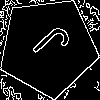J: (23, 21, 73, 72)
